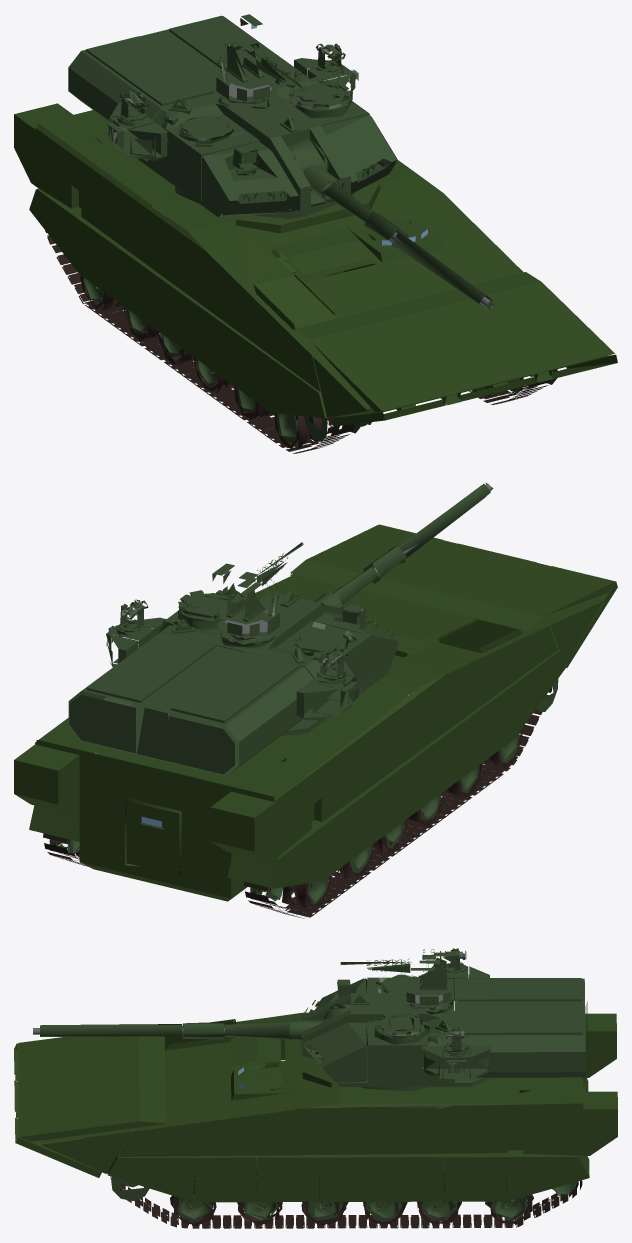
File: type_ztd05.glb
3 renders of one model, top to bottom at view 1: azimuth 30°, elevation 25°; view 2: azimuth 150°, elevation 25°; view 3: azimuth 270°, elevation 25°, orthographic. The views are drawn at different scales.
Visible parts, largest first — view 1: Object_10, Object_15, Object_23; view 2: Object_10, Object_15, Object_23; view 3: Object_10, Object_15, Object_23.
Boxes of the visible parts, <box> form: Object_10: <box>14,45,617,426</box>; Object_15: <box>45,14,557,453</box>; Object_23: <box>110,44,493,308</box>; Object_10: <box>14,524,617,901</box>; Object_15: <box>43,482,558,918</box>; Object_23: <box>108,483,492,693</box>; Object_10: <box>14,952,617,1202</box>; Object_15: <box>40,948,587,1228</box>; Object_23: <box>33,951,464,1071</box>.
Size of the model in its own units: 3.68 by 4.07 by 9.47.
5 materials, 5 textured.
